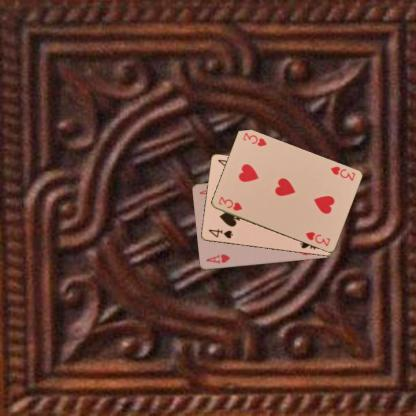3h: (328, 164, 356, 182), (216, 194, 243, 212)
4s: (206, 226, 234, 240)
Ah: (204, 252, 231, 265)
